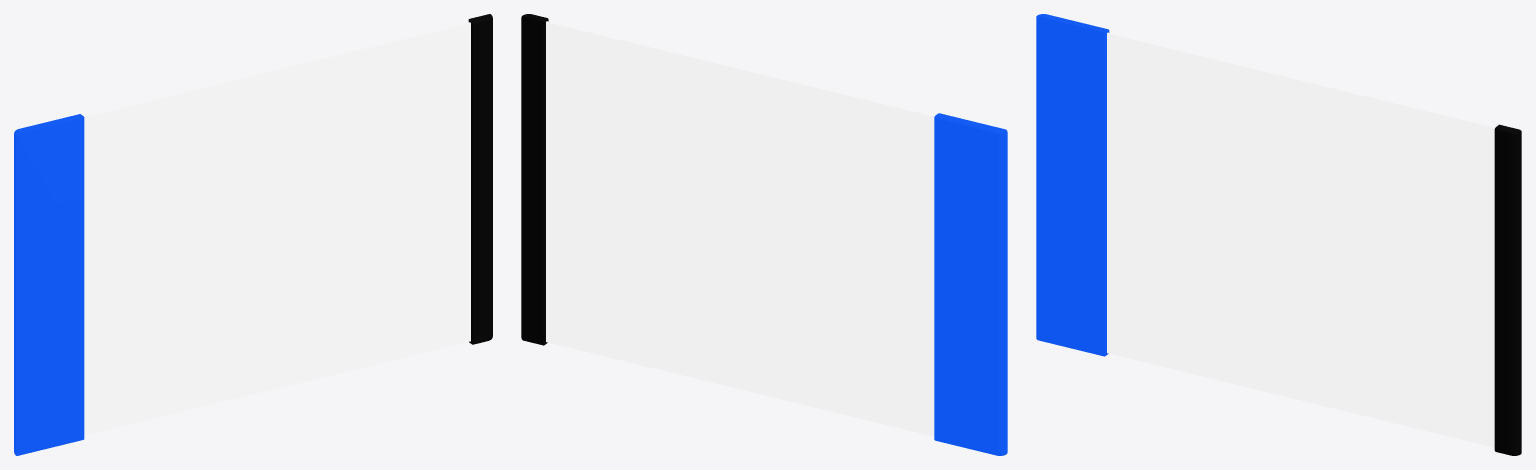
File: tablet-transformed.glb
The picture shows the model from 3 angles, left to right: view 1: azimuth 30°, elevation 25°; view 2: azimuth 150°, elevation 25°; view 3: azimuth 330°, elevation 25°; orthographic projection.
Parts seen in each view (by area): view 1: DrawingField, LeftBase, RightBase; view 2: DrawingField, LeftBase, RightBase; view 3: DrawingField, LeftBase, RightBase.
Part boxes in pixels (x1=…): DrawingField: x1=84, y1=22, x2=470, y2=435; LeftBase: x1=14, y1=114, x2=84, y2=455; RightBase: x1=468, y1=14, x2=492, y2=344; DrawingField: x1=546, y1=21, x2=934, y2=436; LeftBase: x1=934, y1=113, x2=1007, y2=455; RightBase: x1=521, y1=14, x2=548, y2=345; DrawingField: x1=1107, y1=32, x2=1495, y2=447; LeftBase: x1=1036, y1=14, x2=1109, y2=356; RightBase: x1=1494, y1=124, x2=1521, y2=455.
Size of the model in its own units: 0.3883 by 0.2503 by 0.0071.
